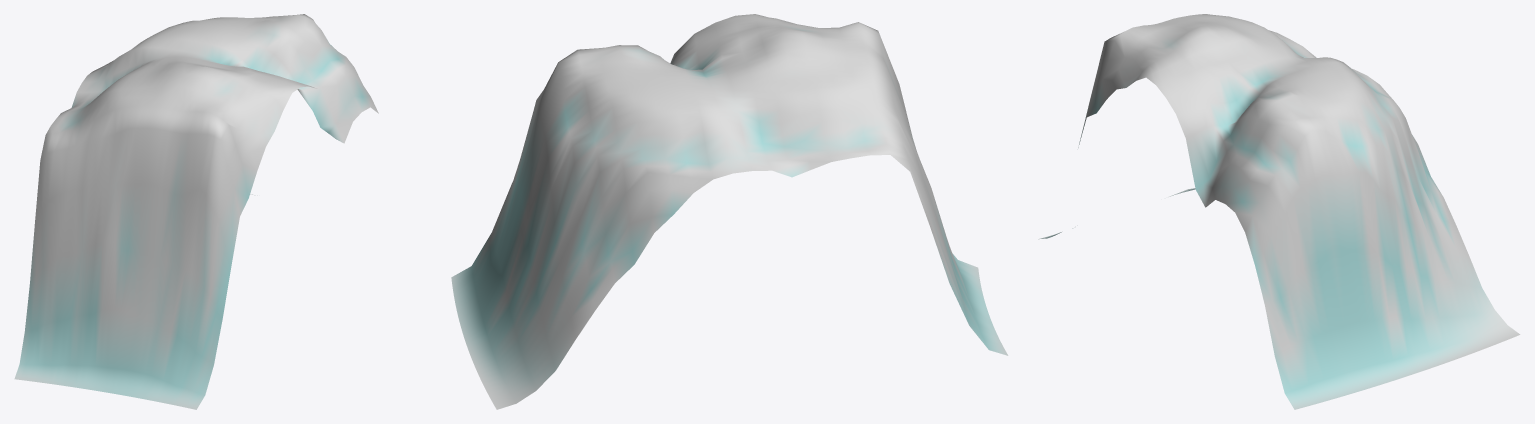
The model's file is near_14.glb.
3 views of the same model, side by side, from view 1: azimuth 30°, elevation 25°; view 2: azimuth 150°, elevation 25°; view 3: azimuth 270°, elevation 25° (orthographic). The views are drawn at different scales.
Parts seen in each view (by area): view 1: Mountain; view 2: Mountain; view 3: Mountain.
Boxes of the visible parts, <box> form: Mountain: <box>14,14,378,409</box>; Mountain: <box>451,14,1008,409</box>; Mountain: <box>1038,14,1520,409</box>.
Size of the model in its own units: 382 by 203 by 353.
